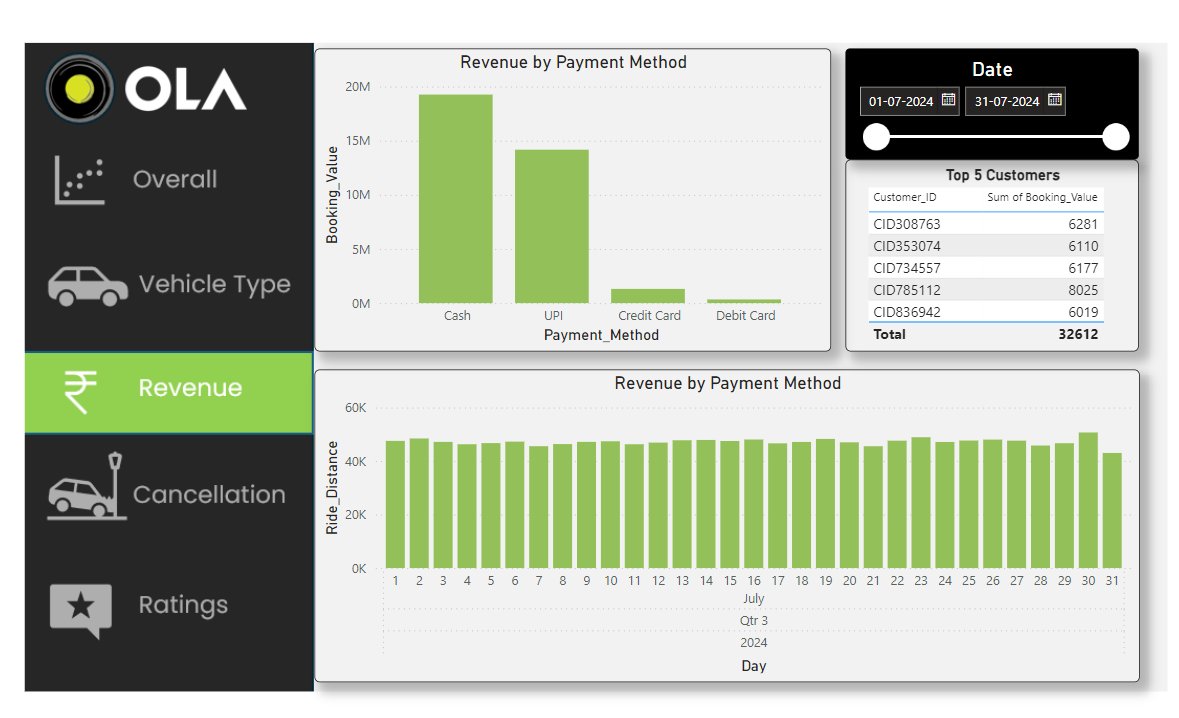

Layout of this report page (visuals, bound fields, positions):
{"tool":"powerbi","page":{"name":"Revenue","canvas":[1280,720],"ordinal":2},"visuals":[{"type":"actionButton","box":[97,241.8,270.4,79.5],"z":0},{"type":"actionButton","box":[92.3,342,278.4,79.5],"z":1000},{"type":"actionButton","box":[92.3,439,278.4,79.5],"z":2000},{"type":"actionButton","box":[92.3,544,278.4,79.5],"z":3000},{"type":"actionButton","box":[89.1,140,278.4,79.5],"z":4000},{"type":"columnChart","title":"Revenue by Payment Method","fields":{"Category":["Bookings - July.Payment_Method"],"Y":["Sum(Bookings - July.Booking_Value)"]},"box":[370.4,52.9,493.2,289.1],"z":5000},{"type":"columnChart","title":"Revenue by Payment Method","fields":{"Category":["Bookings - July.Date.Variation.Date Hierarchy.Year","Bookings - July.Date.Variation.Date Hierarchy.Quarter","Bookings - July.Date.Variation.Date Hierarchy.Month","Bookings - July.Date.Variation.Date Hierarchy.Day"],"Y":["Sum(Bookings - July.Ride_Distance)"]},"box":[370.4,359.1,788,298.6],"z":6000},{"type":"slicer","title":"Date","fields":{"Values":["Bookings - July.Date"]},"box":[878.7,52.9,279.7,105.8],"z":7000},{"type":"tableEx","title":"Top 5 Customers","fields":{"Values":["Bookings - July.Customer_ID","Sum(Bookings - July.Booking_Value)"]},"box":[878.7,158.7,279.7,183.3],"z":8000}]}

Visuals, with their boxes on the page's 1280x720 design canvas (x1, y1, x2, y2). These are canvas units, not pixel positions in the 1179x718 screenshot, which may show the page scaled, cropped or inside an application window:
actionButton: [97,242,367,321]
actionButton: [92,342,371,422]
actionButton: [92,439,371,518]
actionButton: [92,544,371,624]
actionButton: [89,140,368,220]
"Revenue by Payment Method" columnChart: [370,53,864,342]
"Revenue by Payment Method" columnChart: [370,359,1158,658]
"Date" slicer: [879,53,1158,159]
"Top 5 Customers" tableEx: [879,159,1158,342]
